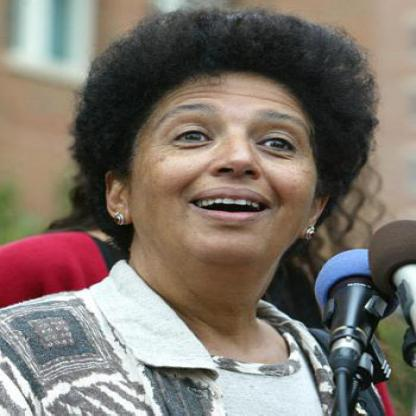face: (122, 25, 337, 267)
